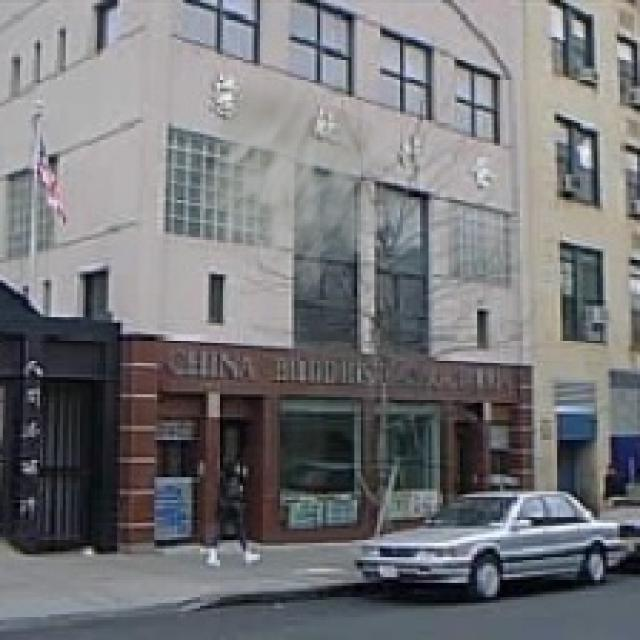smoke: (180, 66, 409, 294)
